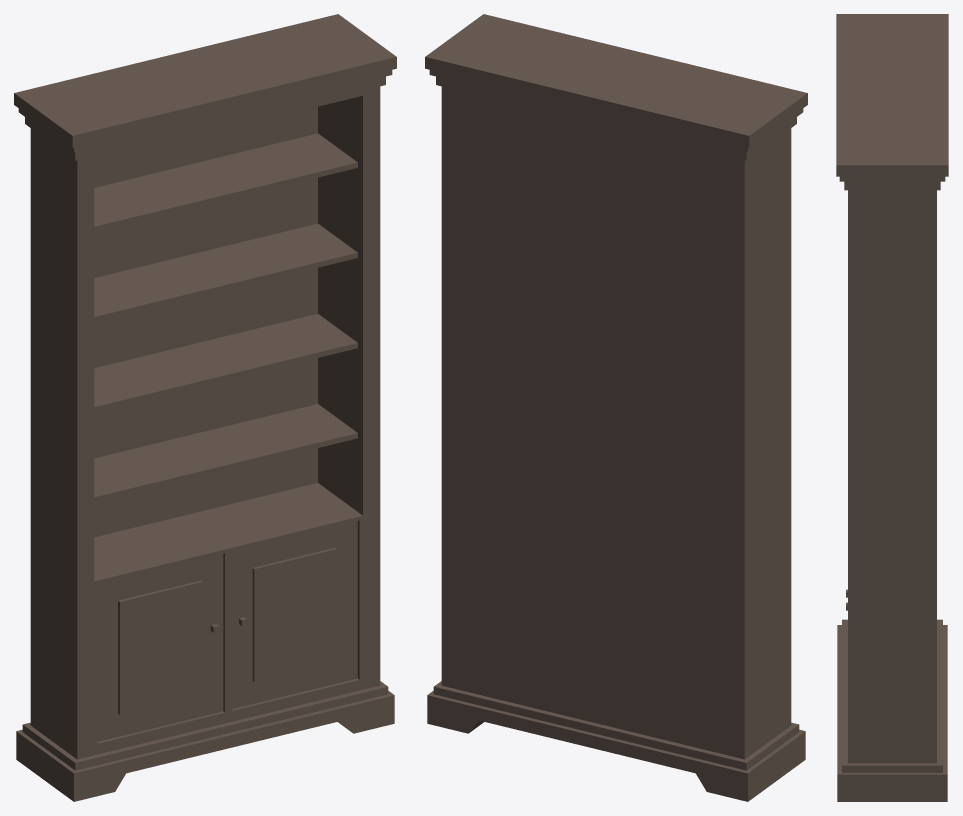
The model's file is Bookcase3.fbx.glb.
3 renders of one model, left to right at view 1: azimuth 30°, elevation 25°; view 2: azimuth 150°, elevation 25°; view 3: azimuth 270°, elevation 25°, orthographic. The views are drawn at different scales.
Visible parts, largest first — view 1: Bookcase3.1; view 2: Bookcase3.1; view 3: Bookcase3.1.
Part boxes in pixels (bbox=[...]): Bookcase3.1: bbox=[14, 14, 396, 801]; Bookcase3.1: bbox=[425, 14, 807, 801]; Bookcase3.1: bbox=[836, 14, 948, 801].
Size of the model in its own units: 121 by 238 by 37.95.
